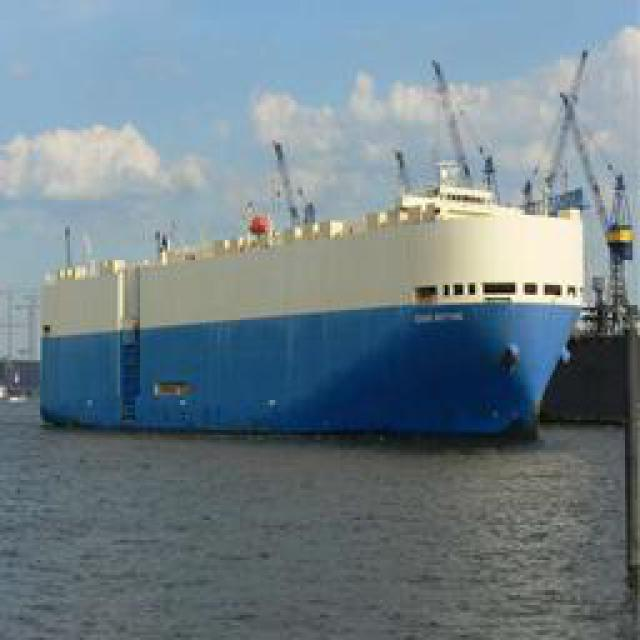Ship: (34, 112, 597, 432)
